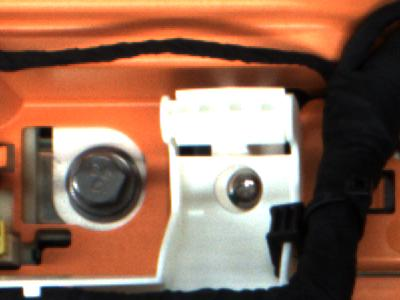nut_b: (63, 143, 145, 224)
